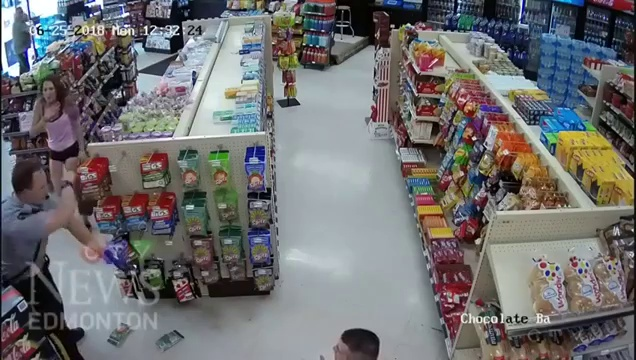face: (25, 170, 50, 205), (332, 330, 351, 360), (39, 82, 55, 105)
